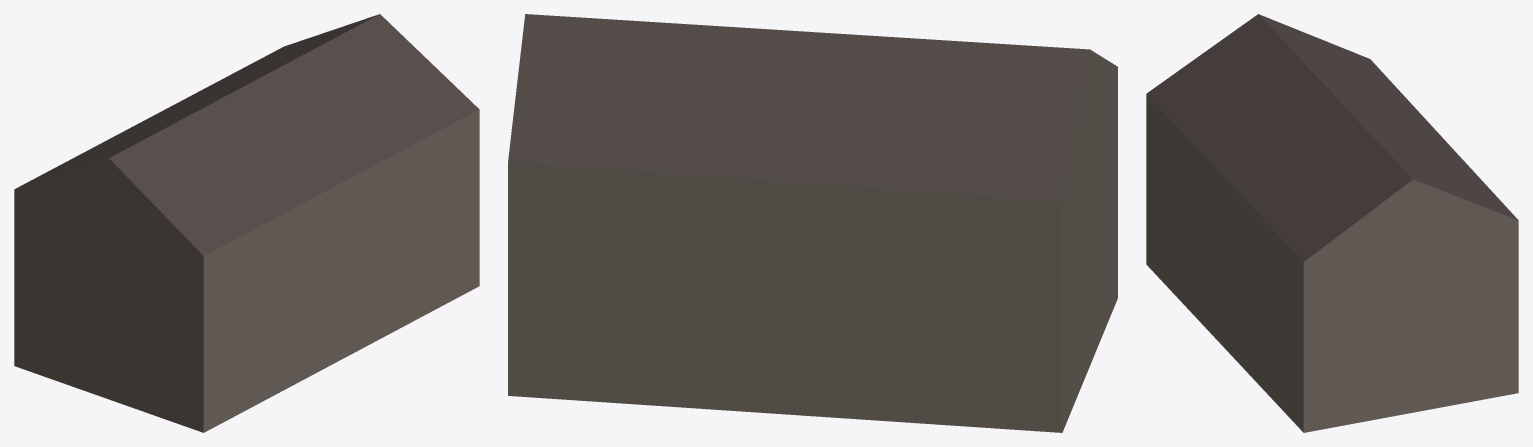
The picture shows the model from 3 angles, left to right: view 1: azimuth 30°, elevation 25°; view 2: azimuth 150°, elevation 25°; view 3: azimuth 270°, elevation 25°; orthographic projection. The views are drawn at different scales.
Parts seen in each view (by area): view 1: HP-w505659413; view 2: HP-w505659413; view 3: HP-w505659413.
Boxes of the visible parts, x1,y1,x2,y2 form: HP-w505659413: (14, 14, 479, 432); HP-w505659413: (508, 14, 1117, 432); HP-w505659413: (1146, 14, 1518, 432).
Bounding box in the file's own units: 15.3 × 8.19 × 11.85.
